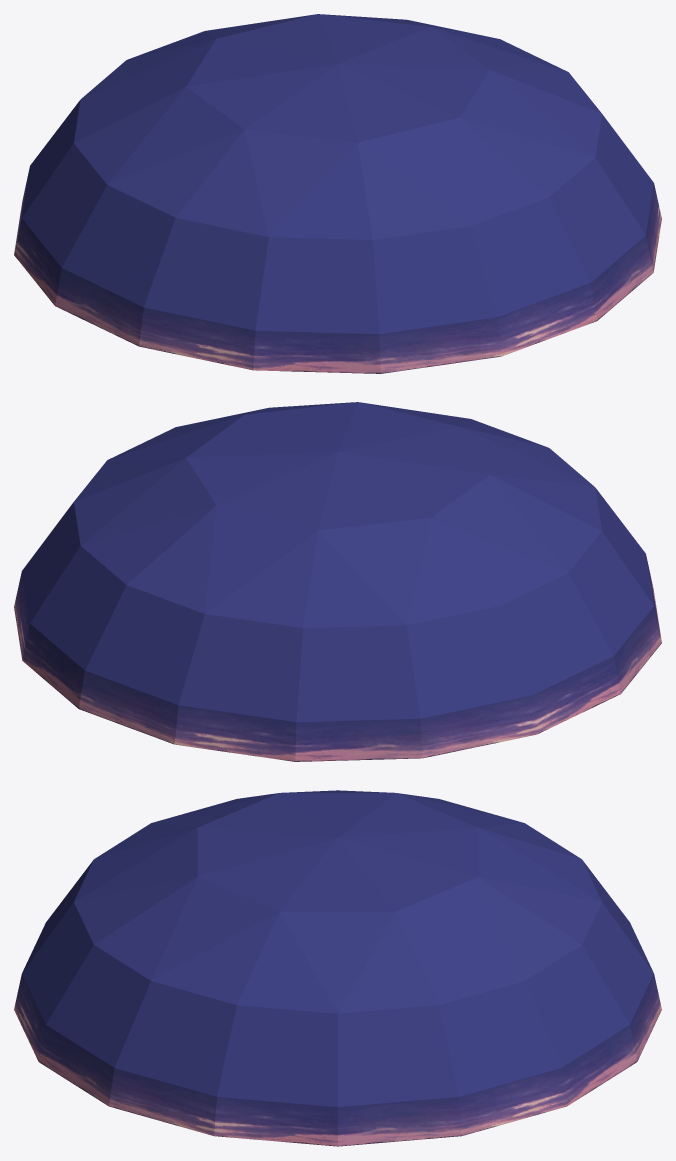
The model's file is Skybox4.obj.
3 renders of one model, top to bottom at view 1: azimuth 30°, elevation 25°; view 2: azimuth 150°, elevation 25°; view 3: azimuth 270°, elevation 25°, orthographic.
Visible parts, largest first — view 1: Object_2; view 2: Object_2; view 3: Object_2.
Part boxes in pixels (<box>): Object_2: <box>14,14,661,373</box>; Object_2: <box>14,402,661,761</box>; Object_2: <box>14,790,661,1146</box>.
Size of the model in its own units: 100000 by 29220 by 100000.
